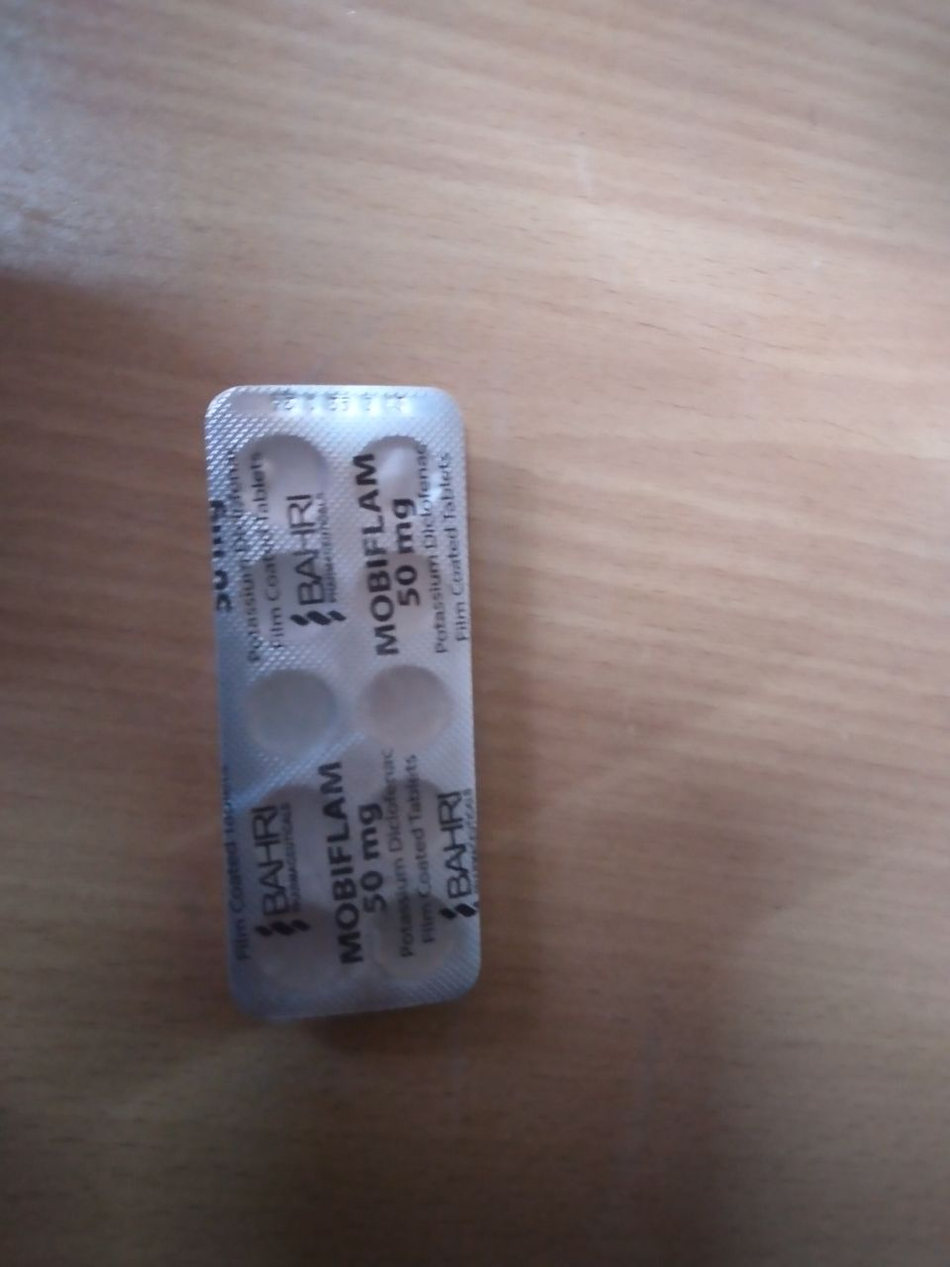Medicine: (191, 370, 498, 1053)
